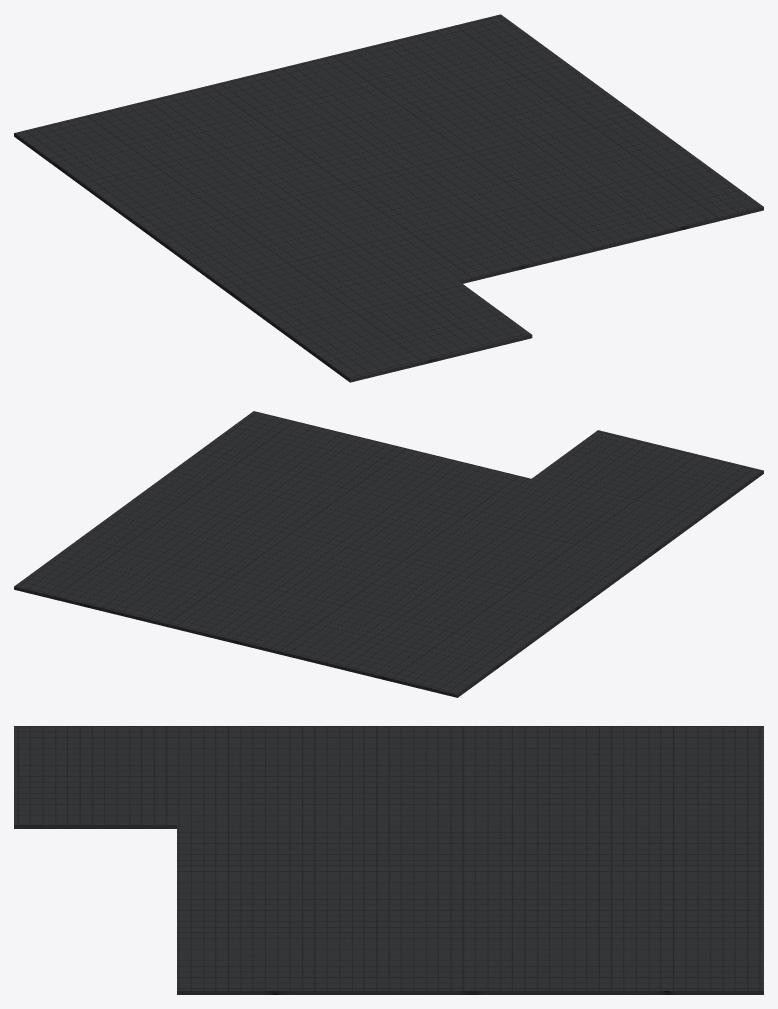
The model's file is Piso.fbx.
3 renders of one model, top to bottom at view 1: azimuth 30°, elevation 25°; view 2: azimuth 150°, elevation 25°; view 3: azimuth 270°, elevation 25°, orthographic. The views are drawn at different scales.
Visible parts, largest first — view 1: Piso; view 2: Piso; view 3: Piso.
Part boxes in pixels (bbox=[...]): Piso: bbox=[14, 14, 763, 382]; Piso: bbox=[14, 411, 763, 697]; Piso: bbox=[14, 726, 763, 994].
Size of the model in its own units: 7861 by 53.9 by 9400.
